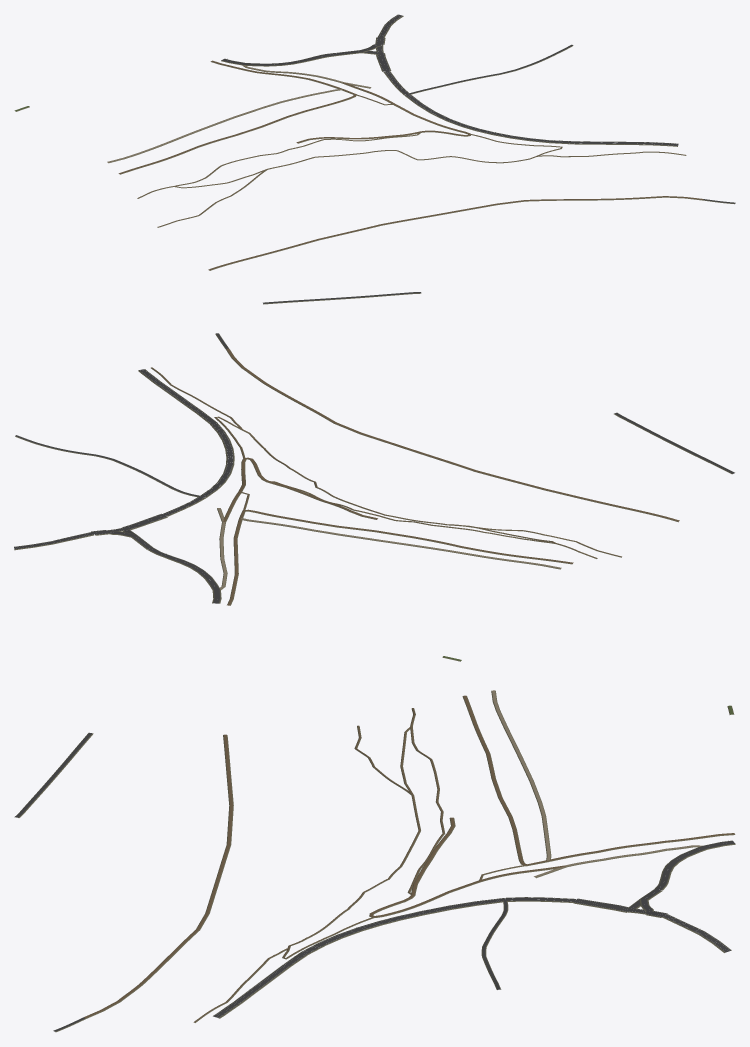
The picture shows the model from 3 angles, top to bottom: view 1: azimuth 30°, elevation 25°; view 2: azimuth 150°, elevation 25°; view 3: azimuth 270°, elevation 25°; orthographic projection. The views are drawn at different scales.
Visible parts, largest first — view 1: roads; view 2: roads; view 3: roads.
Part boxes in pixels (bbox=[...]): roads: bbox=[14, 14, 735, 304]; roads: bbox=[14, 333, 734, 661]; roads: bbox=[14, 690, 735, 1032].
Size of the model in its own units: 807 by 58.53 by 809.
